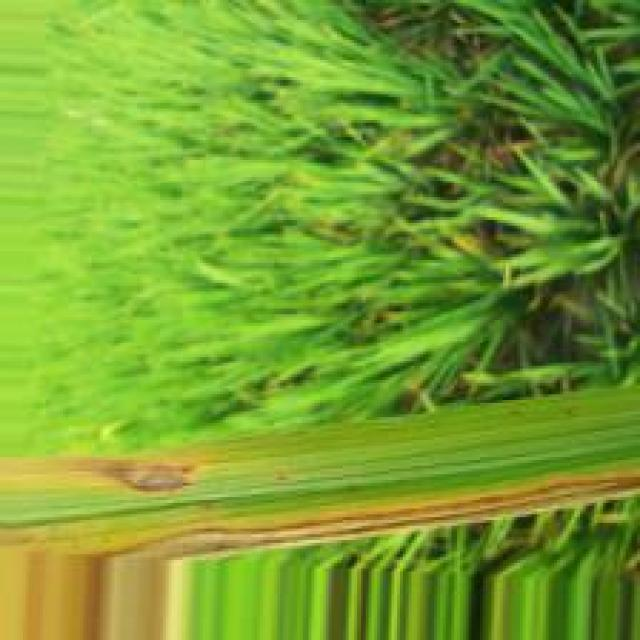Leaf_Blast: (0, 449, 640, 640), (0, 437, 226, 498)
